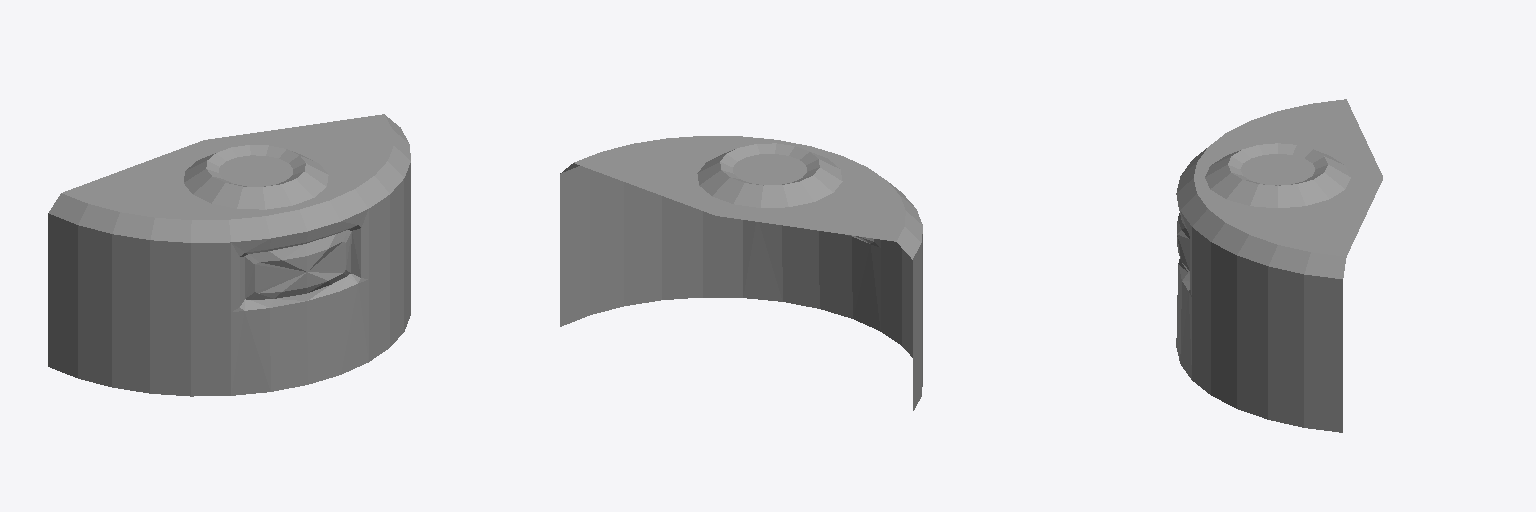
The model's file is Patron.obj.
3 renders of one model, left to right at view 1: azimuth 30°, elevation 25°; view 2: azimuth 150°, elevation 25°; view 3: azimuth 270°, elevation 25°, orthographic.
Parts seen in each view (by area): view 1: Patron_Patron_low_Cylinder.001; view 2: Patron_Patron_low_Cylinder.001; view 3: Patron_Patron_low_Cylinder.001.
Part boxes in pixels (left/top/right/bottom): Patron_Patron_low_Cylinder.001: left=48, top=114, right=410, bottom=396; Patron_Patron_low_Cylinder.001: left=560, top=136, right=922, bottom=410; Patron_Patron_low_Cylinder.001: left=1176, top=99, right=1382, bottom=432.
Size of the model in its own units: 0.2806 by 0.1385 by 0.143.